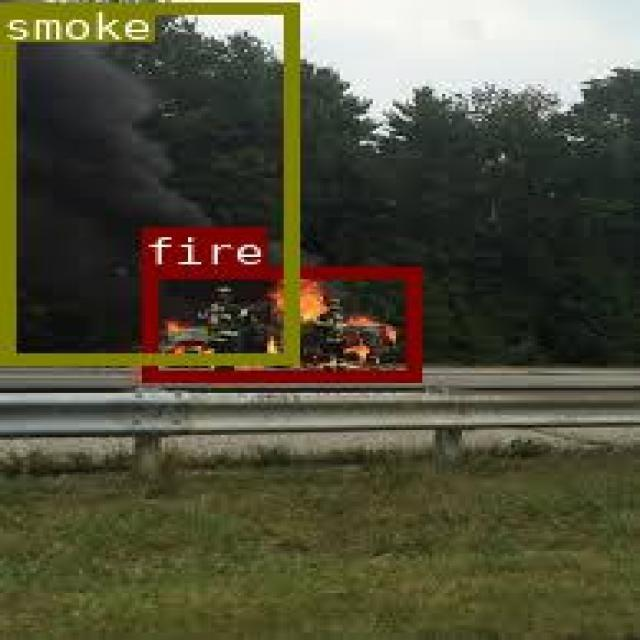fire: (139, 267, 416, 378)
smoke: (0, 1, 294, 362)
